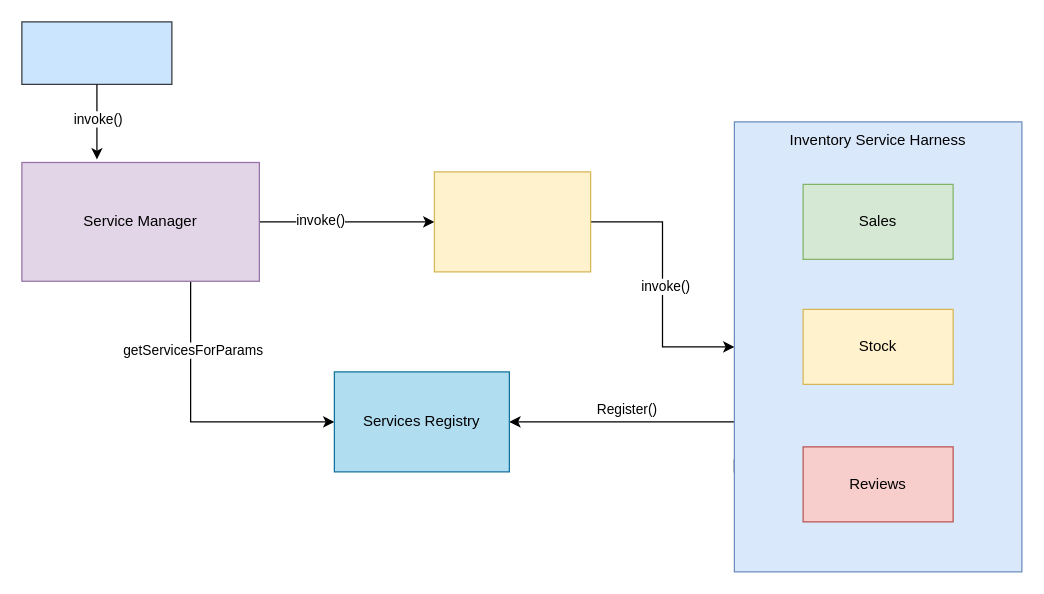
Some shapes in this 1044 by 594 pixel diagram are drawn without their labels. The shapes that lost their labels are listed below. From the top down, each one's centre as x and y in pixels, then its label:
[96,52]: Service Clients
[512,221]: Rate Limiter
